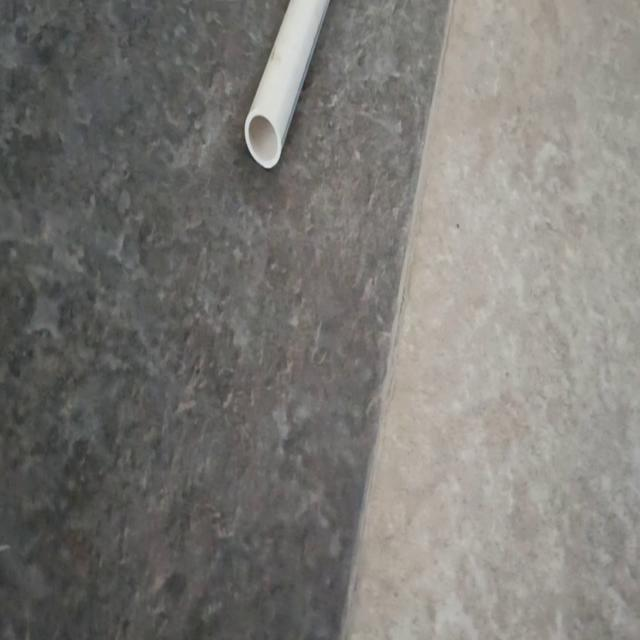Cube: (243, 0, 330, 170)
